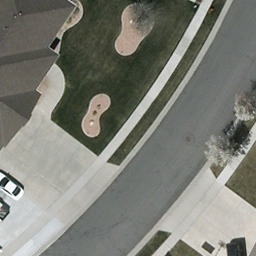car: (1, 171, 26, 201)
